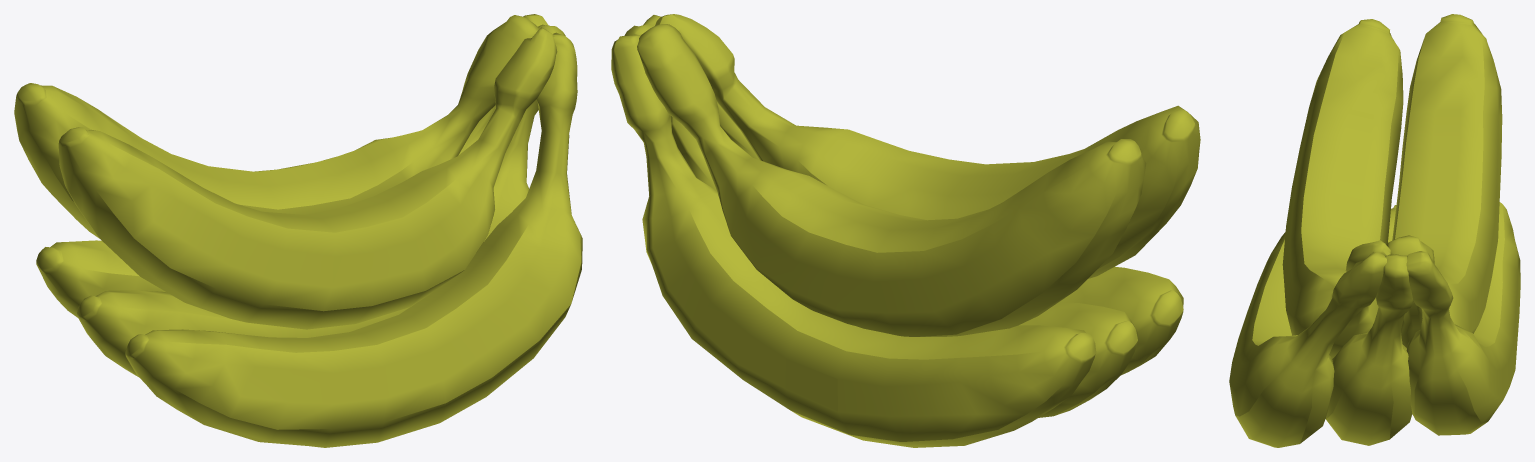
Rendered from bananas_lod0.fbx.
3 views of the same model, side by side, from view 1: azimuth 30°, elevation 25°; view 2: azimuth 150°, elevation 25°; view 3: azimuth 270°, elevation 25° (orthographic). The views are drawn at different scales.
Visible parts, largest first — view 1: banana24, polySurface1, polySurface3, polySurface7, banana25; view 2: polySurface3, banana25, polySurface1, polySurface7, banana24; view 3: polySurface1, polySurface3, banana24, banana25, polySurface7.
Part boxes in pixels (x1=…): banana24: x1=125, y1=32, x2=582, y2=447; polySurface1: x1=58, y1=27, x2=557, y2=329; polySurface3: x1=14, y1=15, x2=538, y2=238; polySurface7: x1=77, y1=24, x2=565, y2=376; banana25: x1=36, y1=14, x2=548, y2=317; polySurface3: x1=637, y1=24, x2=1146, y2=336; banana25: x1=611, y1=34, x2=1096, y2=447; polySurface1: x1=655, y1=14, x2=1200, y2=278; polySurface7: x1=624, y1=24, x2=1137, y2=417; banana24: x1=643, y1=15, x2=1183, y2=375; polySurface1: x1=1282, y1=19, x2=1403, y2=358; polySurface3: x1=1386, y1=14, x2=1502, y2=347; banana24: x1=1229, y1=232, x2=1386, y2=447; banana25: x1=1406, y1=202, x2=1520, y2=435; polySurface7: x1=1325, y1=205, x2=1413, y2=445.
Size of the model in its own units: 27.97 by 17.6 by 15.32.
